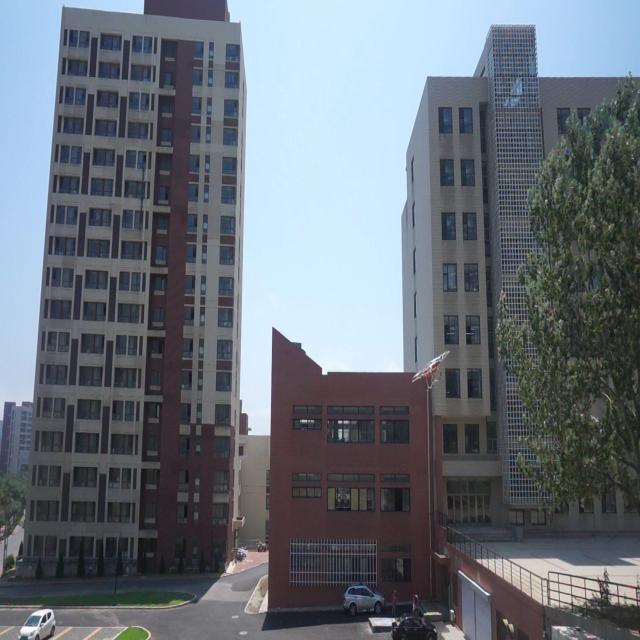drone: (409, 344, 453, 398)
